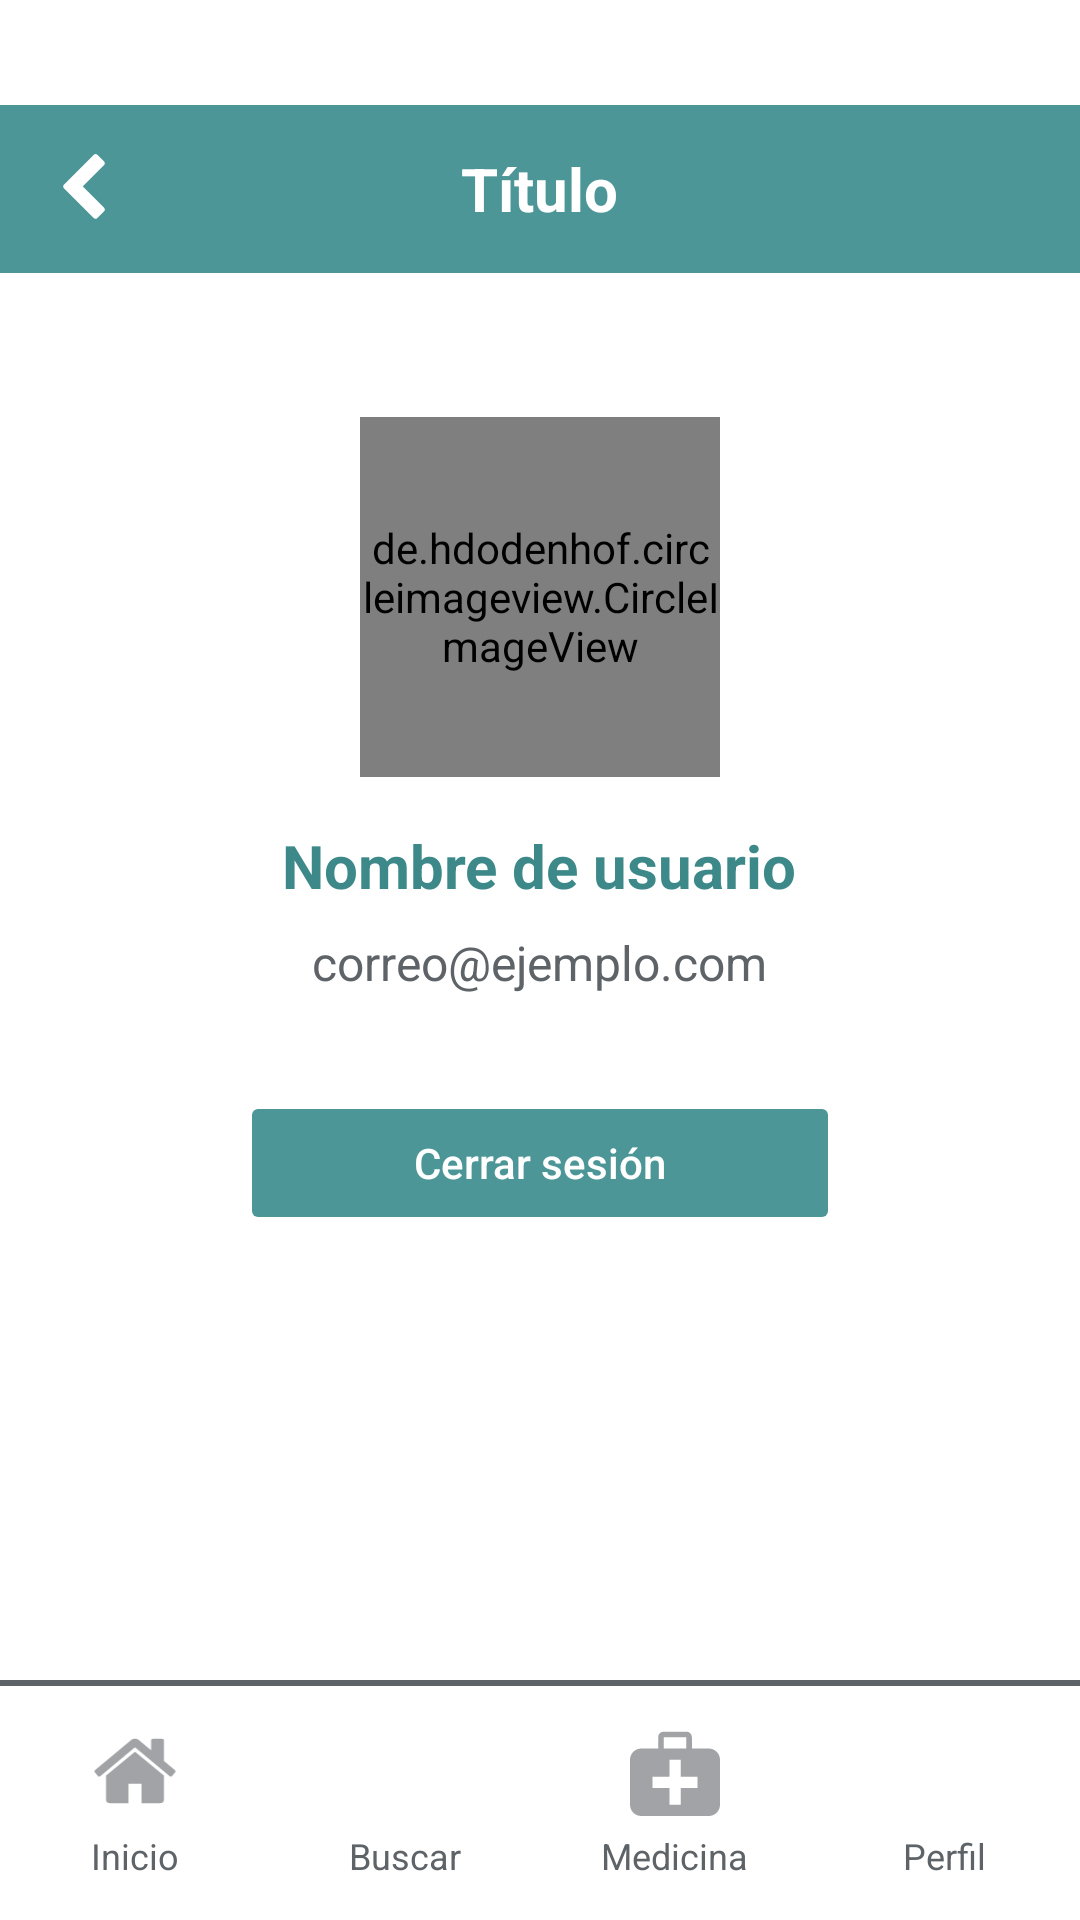

Icon click points for this 1080 x 1920 phone screenshot, format (x=x, y=y):
aid kit: (x=675, y=1774)
chevron left: (x=84, y=186)
